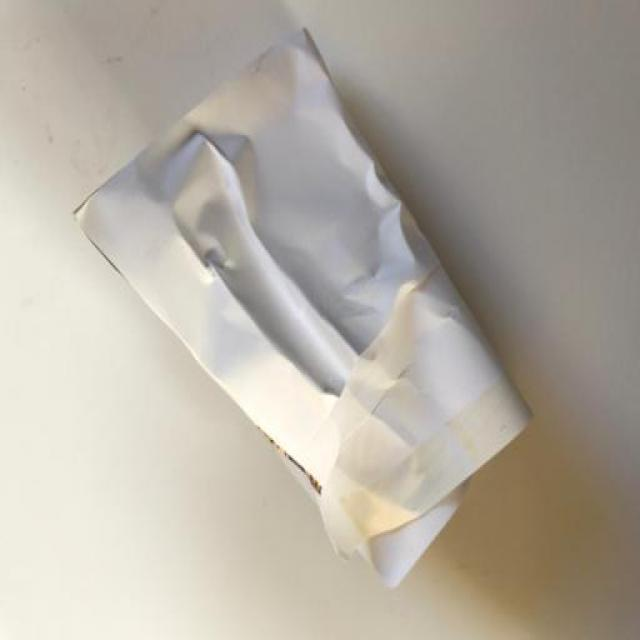paper: (39, 15, 545, 594)
